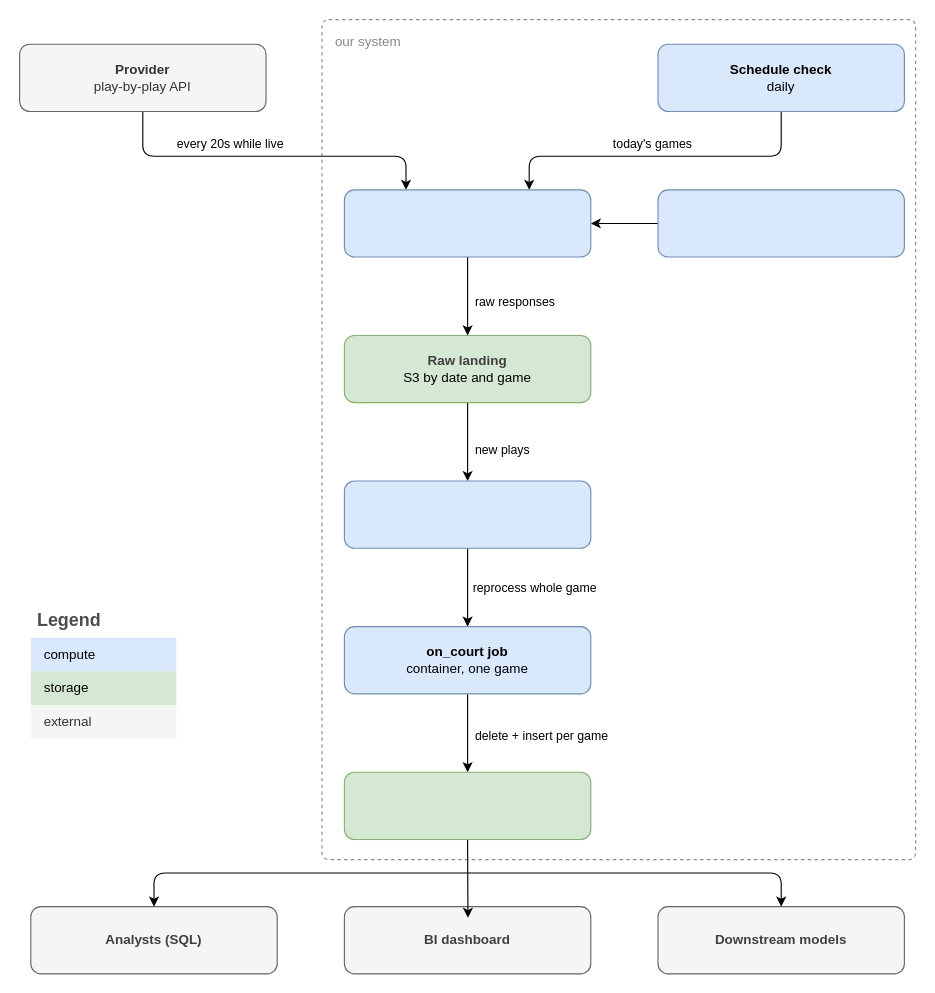
This 935x993 diagram has some shape labels left out. The shapes that lost their labels are listed below. From the top down, each one's centre as x and y in pixels, then its label:
pixel 467 223: Poller one per live game - 20s
pixel 780 223: Airflow schedule, retries, backfill
pixel 467 514: Queue one message per update
pixel 467 805: MySQL pbp_players_on_court
